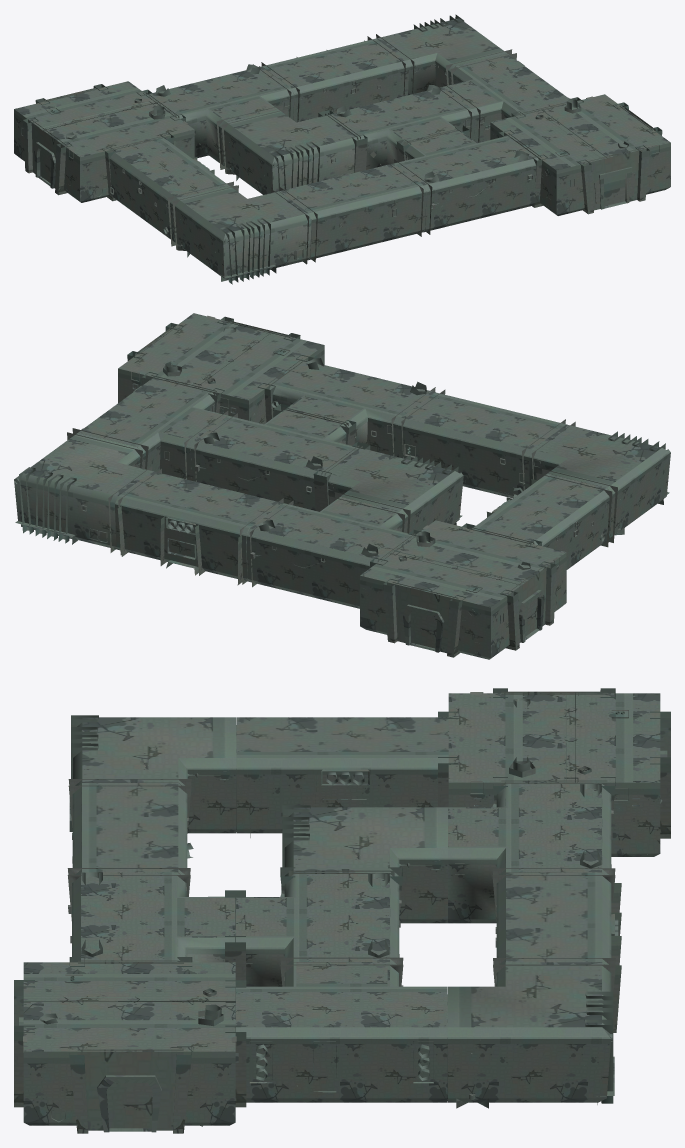
The model's file is Combined_Mesh_root_scene__2_ff295a5e__zombies2_diffuse_08_b0bdab26_c1f257.obj.
3 views of the same model, one above another, from view 1: azimuth 30°, elevation 25°; view 2: azimuth 150°, elevation 25°; view 3: azimuth 270°, elevation 25° (orthographic). The views are drawn at different scales.
Bounding box in the file's own units: 81.96 × 9.64 × 62.02.
180 materials, 180 textured.
